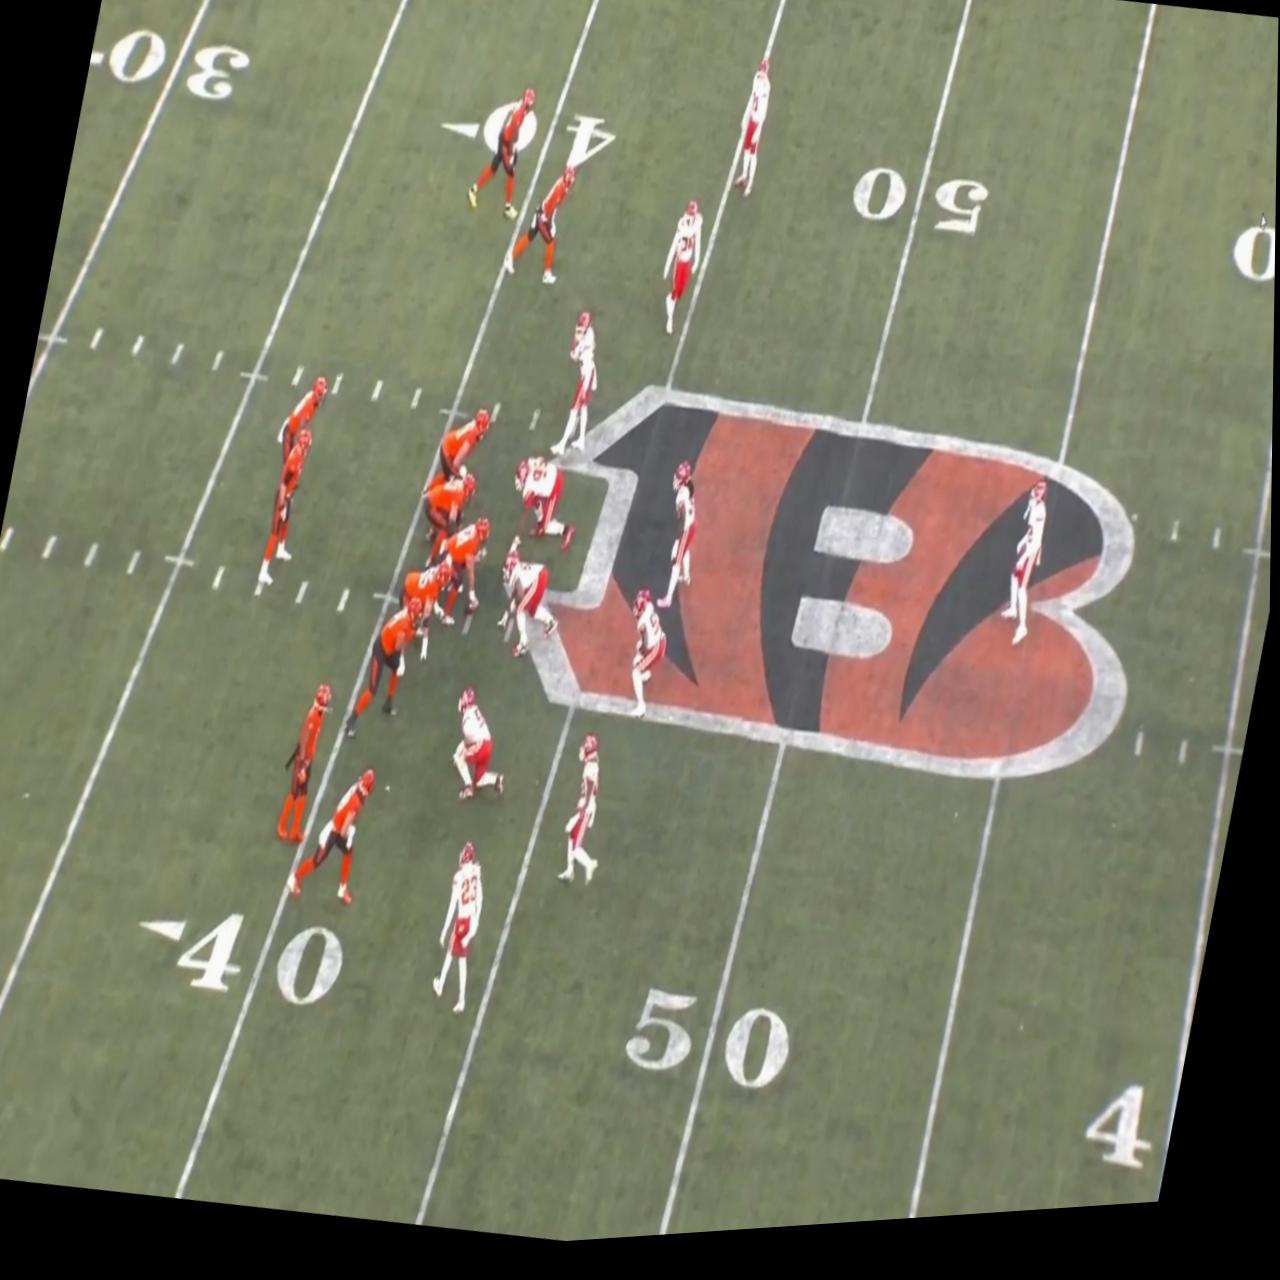30L: (86, 13, 256, 115)
40L: (130, 892, 353, 1024), (435, 90, 622, 192)
40R: (1082, 1088, 1184, 1196), (1231, 238, 1276, 319)
50: (624, 986, 804, 1111), (847, 168, 993, 257)
